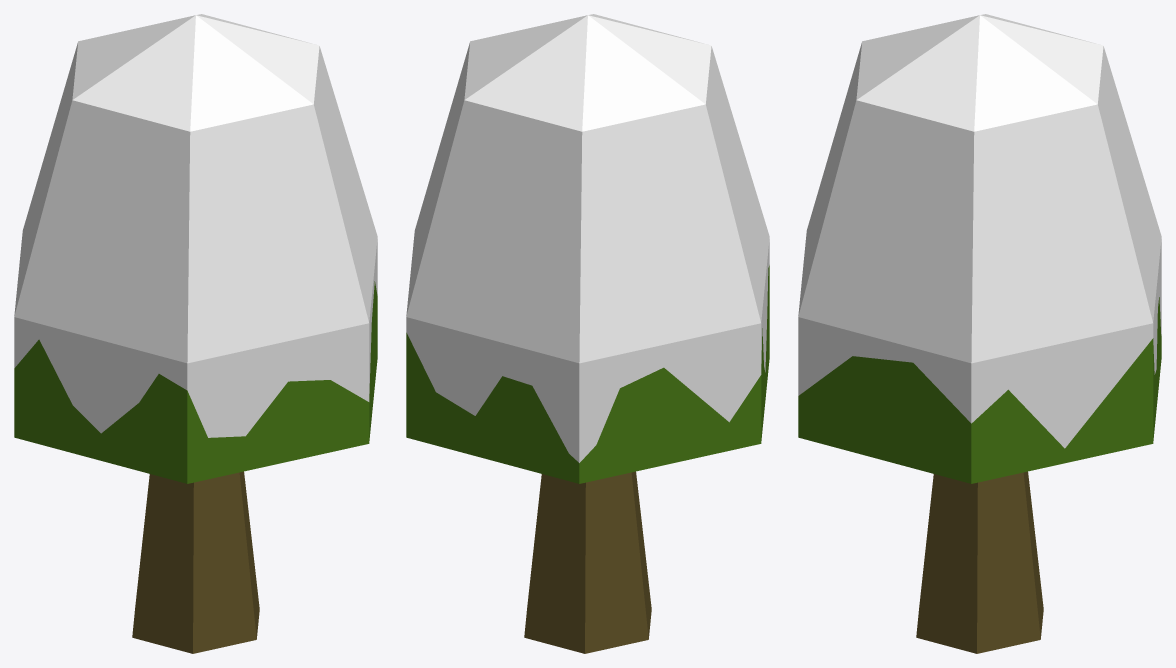
File: Tree_Generic_Winter_Snow_Capped_03.fbx
3 views of the same model, side by side, from view 1: azimuth 30°, elevation 25°; view 2: azimuth 150°, elevation 25°; view 3: azimuth 270°, elevation 25° (orthographic).
Visible parts, largest first — view 1: Tree_Generic_Winter_Snow_Capped_03; view 2: Tree_Generic_Winter_Snow_Capped_03; view 3: Tree_Generic_Winter_Snow_Capped_03.
Part boxes in pixels (x1,y1,x2,y2): Tree_Generic_Winter_Snow_Capped_03: [14, 14, 377, 653]; Tree_Generic_Winter_Snow_Capped_03: [406, 14, 769, 653]; Tree_Generic_Winter_Snow_Capped_03: [798, 14, 1161, 653].
Size of the model in its own units: 75.06 by 123 by 66.56.
